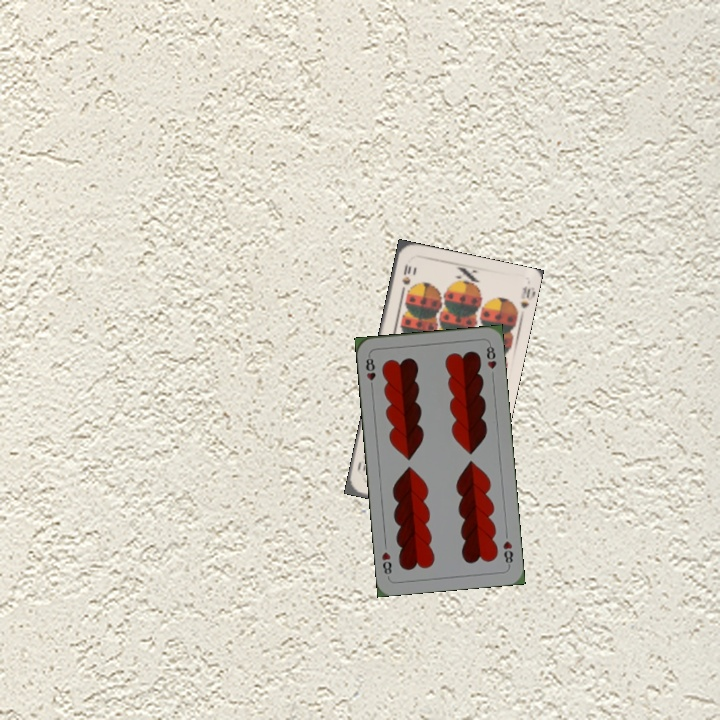H8: (361, 351, 378, 392), (499, 537, 515, 569)
S10: (397, 260, 414, 297)
